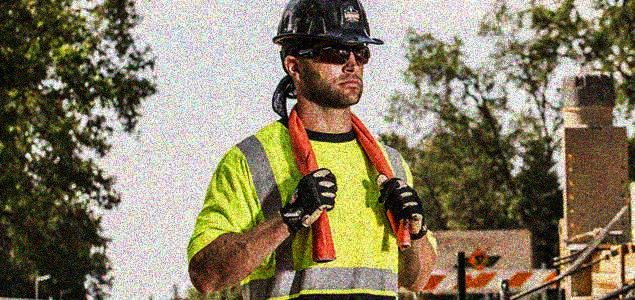helmet: (272, 1, 385, 108)
